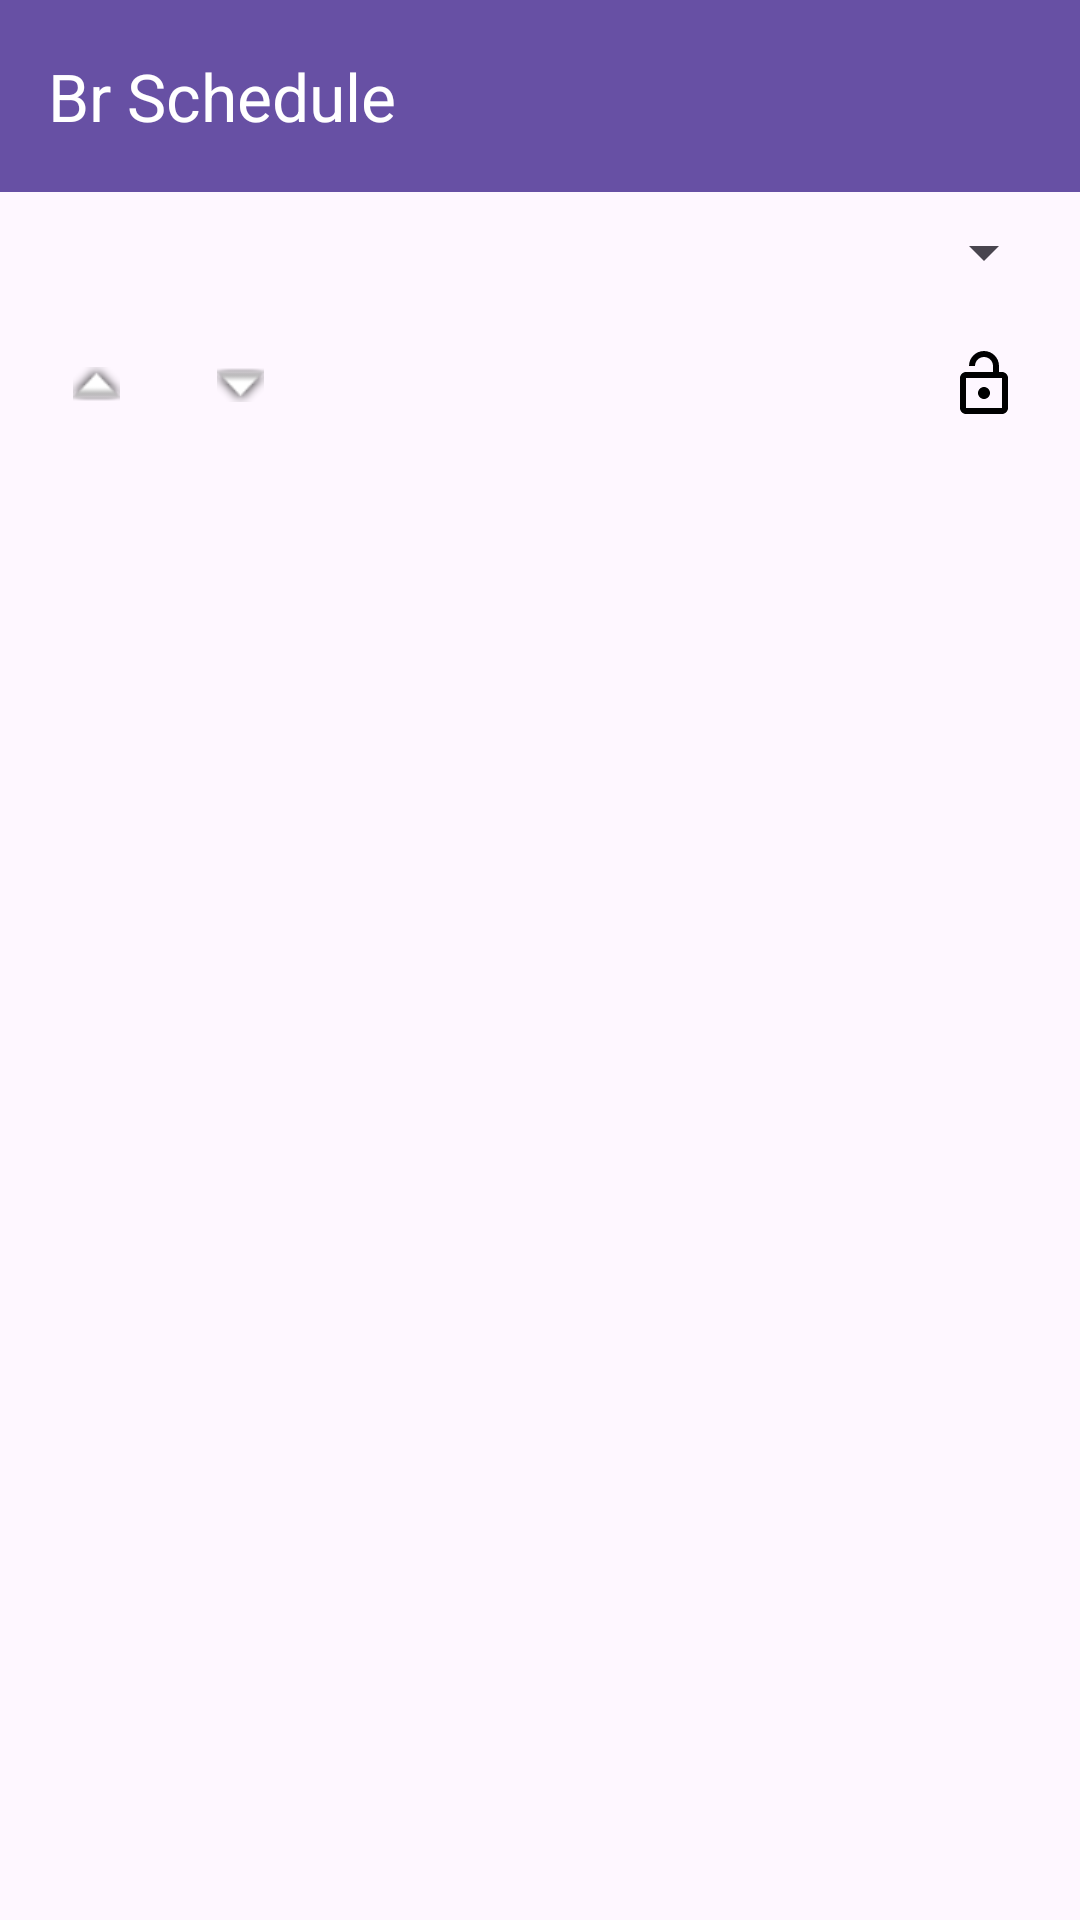

Icons on this 1080px x 1920px Android screen, each with its box as bbox=[x1, y1, x2, y2]:
Lock Controls: bbox=[960, 351, 1008, 414]
Shift Down: bbox=[217, 369, 264, 401]
Shift Up: bbox=[73, 368, 120, 400]
